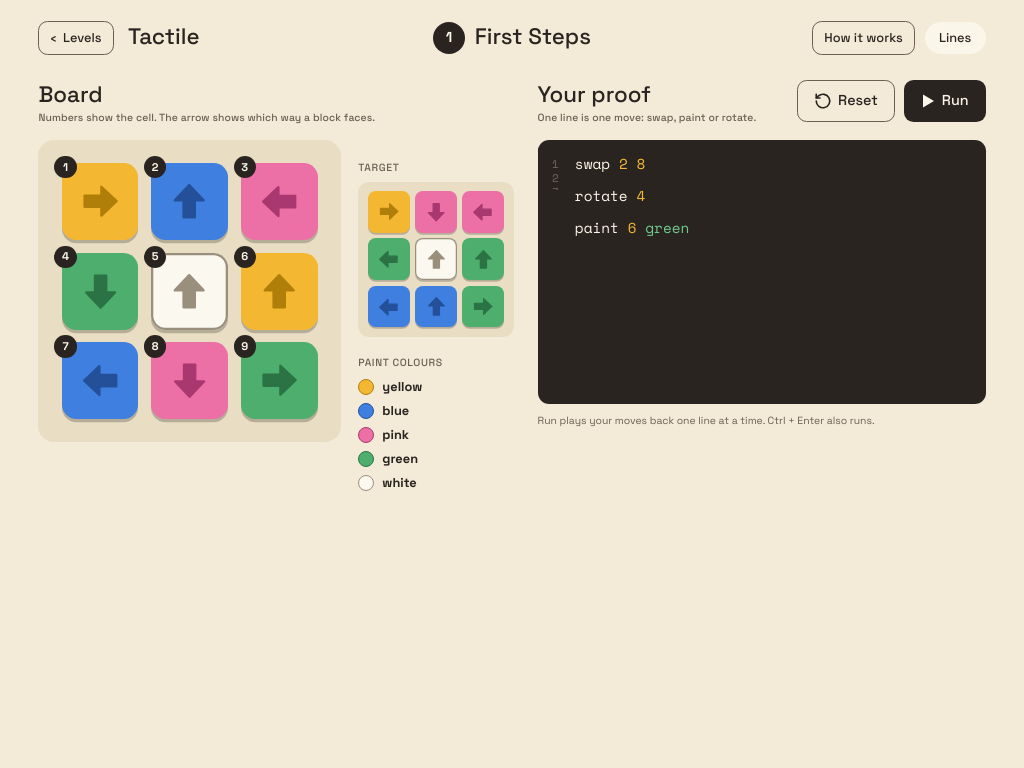
Test: the app mounts without errors (this is what a blank page would break) › runs a proof from the play screen: asks Lean, plays its boards back, shows the verdict
The width and height of the screenshot is (1024, 768).
Click the button "Run".
click(945, 101)  # box [904,80,986,122]
Wait 5600 ms
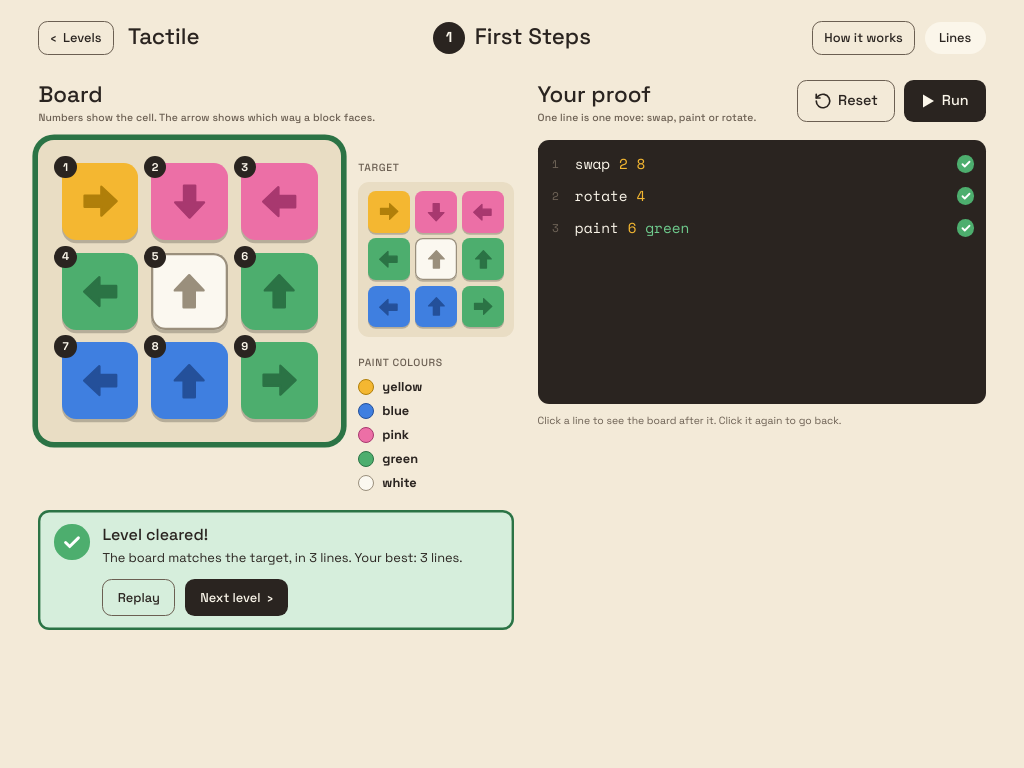
Expected: the text "Level cleared!" is shown, [102,524,208,545]
